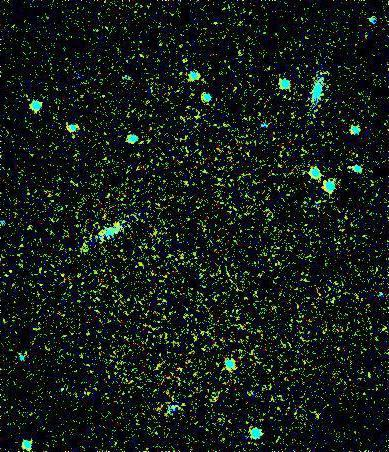star: (12, 339, 42, 369)
